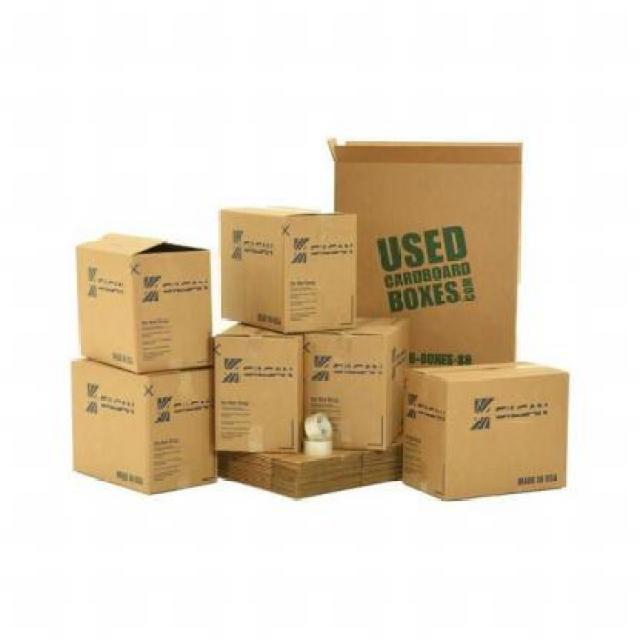box: (330, 137, 519, 366), (406, 360, 566, 500), (68, 354, 219, 491), (72, 227, 208, 369), (221, 202, 358, 338), (297, 316, 415, 452), (218, 323, 298, 457)
